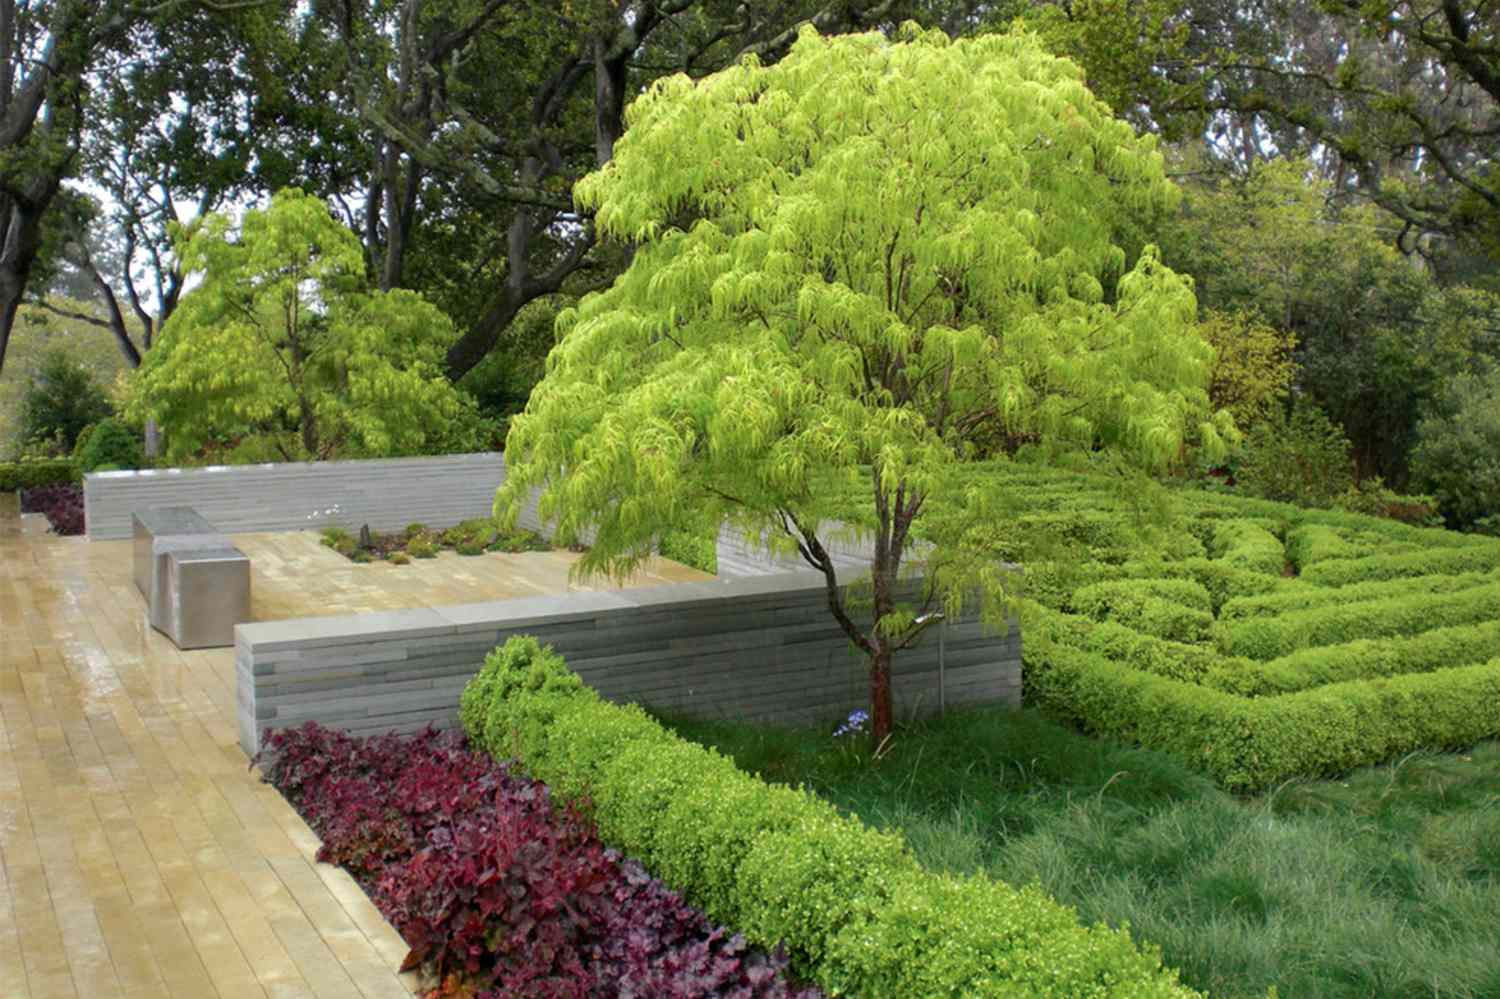grass: (731, 695, 1499, 985)
tree: (806, 515, 914, 764)
